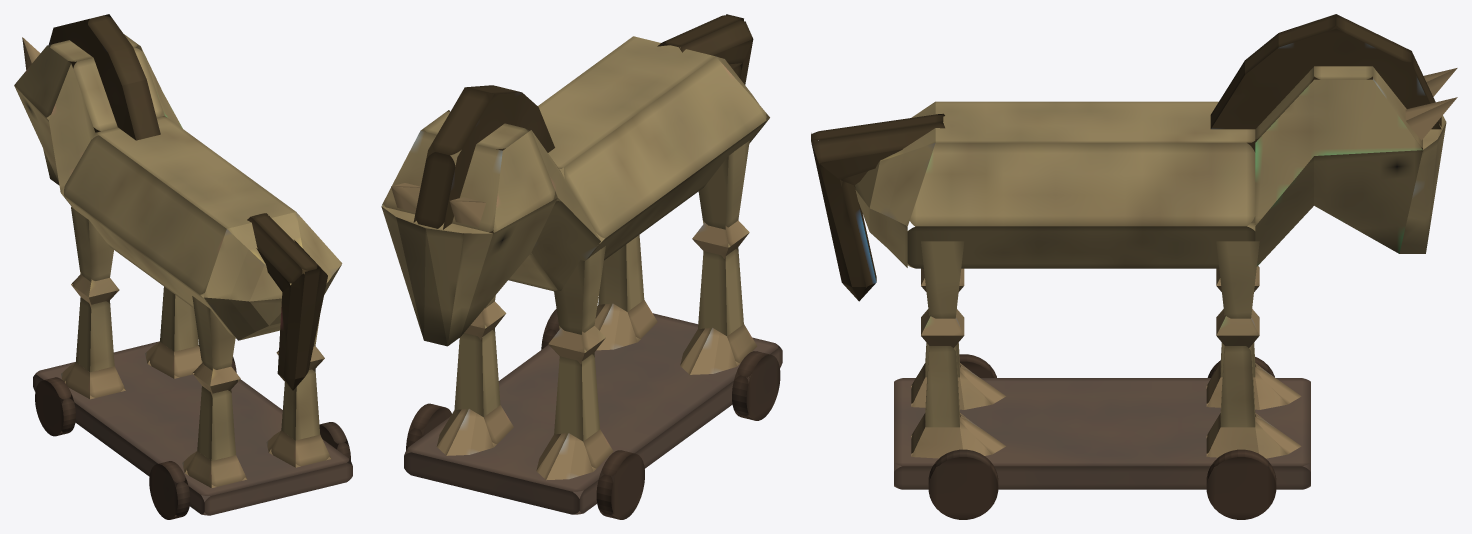
The model's file is trojanHorse.fbx.
3 views of the same model, side by side, from view 1: azimuth 30°, elevation 25°; view 2: azimuth 150°, elevation 25°; view 3: azimuth 270°, elevation 25° (orthographic). The views are drawn at different scales.
Visible parts, largest first — view 1: body, base, head, tail, mane, cuboid, cuboid_3, cuboid_5, wheel2, wheel1, cuboid_2, cuboid_1 (+8 smaller); view 2: body, base, head, mane, cuboid, cuboid_3, cuboid_7, tail, cuboid_1, wheel2, wheel1, cuboid_2 (+11 smaller); view 3: body, base, head, mane, tail, wheel4, wheel3, cuboid_6, cuboid_4, cuboid_7, cuboid_5, cylinder_2 (+6 smaller).
Boxes of the visible parts, x1,y1,x2,y2 form: body: [61, 116, 342, 340]; base: [33, 341, 352, 515]; head: [14, 34, 182, 192]; tail: [247, 213, 327, 390]; mane: [48, 14, 160, 140]; cuboid: [75, 297, 114, 372]; cuboid_3: [197, 386, 235, 460]; cuboid_5: [281, 369, 320, 440]; wheel2: [149, 461, 190, 519]; wheel1: [35, 377, 75, 436]; cuboid_2: [192, 293, 235, 370]; cuboid_1: [71, 206, 113, 281]; body: [530, 36, 769, 260]; base: [404, 313, 782, 514]; head: [381, 110, 600, 346]; mane: [413, 85, 554, 234]; cuboid: [554, 348, 599, 442]; cuboid_3: [698, 243, 743, 336]; cuboid_7: [454, 324, 500, 417]; tail: [657, 14, 753, 84]; cuboid_1: [554, 244, 605, 334]; wheel2: [732, 351, 780, 420]; wheel1: [596, 450, 644, 519]; cuboid_2: [698, 140, 749, 229]; body: [855, 101, 1255, 268]; base: [894, 378, 1310, 489]; head: [1255, 66, 1446, 266]; mane: [1210, 14, 1441, 152]; tail: [811, 113, 944, 301]; wheel4: [928, 449, 998, 519]; wheel3: [1206, 449, 1276, 519]; cuboid_6: [1216, 223, 1259, 318]; cuboid_4: [921, 241, 964, 318]; cuboid_7: [1220, 345, 1255, 427]; cuboid_5: [925, 345, 959, 427]; cylinder_2: [911, 413, 1005, 458].
Size of the model in its own units: 43.75 by 88.75 by 116.
Materials: 1 (1 with a texture image).
